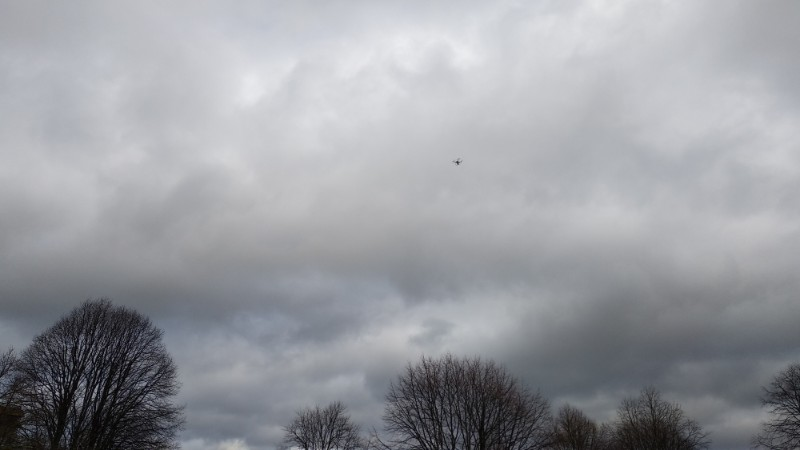drone: (451, 158, 463, 167)
